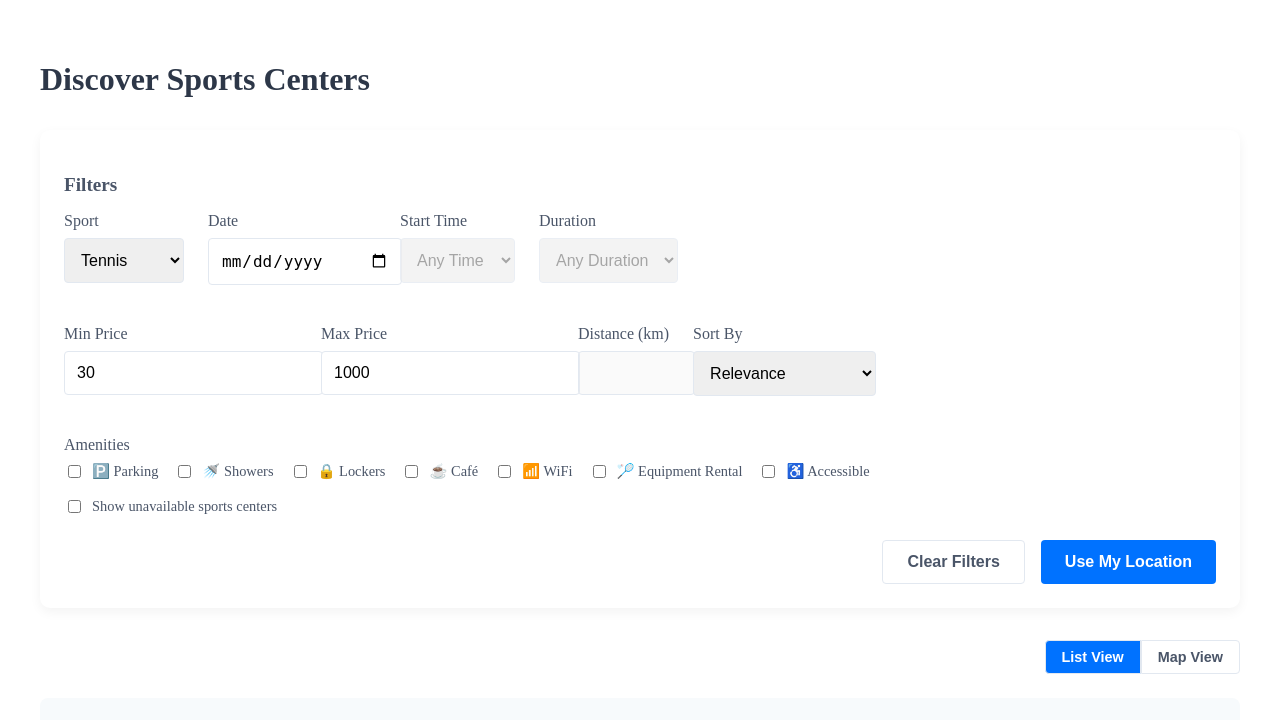
SportsCenterDiscovery Component › clears filters when clear button is clicked
# Set min price to 200
Replace the text in the number field with test id "price-min-filter" with "200": (194, 373) x1=64 y1=351 x2=323 y2=395
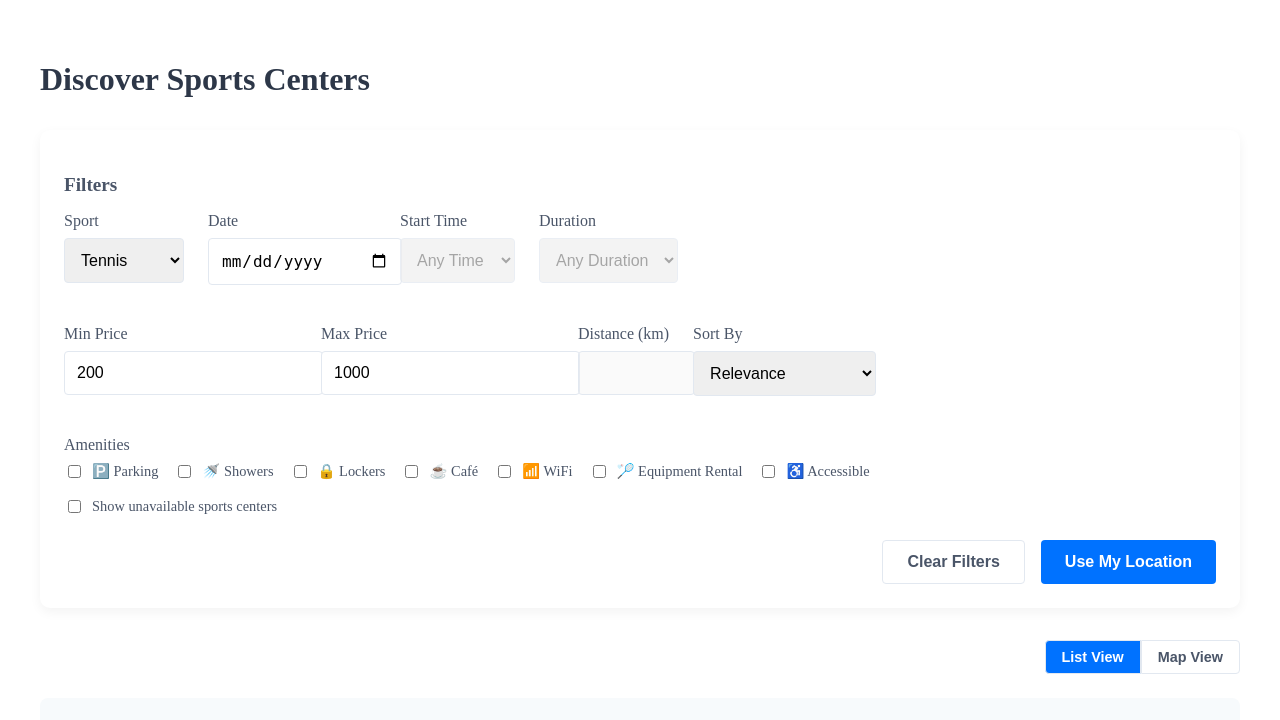
# Clear filters
Click the button with test id "clear-filters-button": click(954, 562) x1=882 y1=540 x2=1025 y2=584
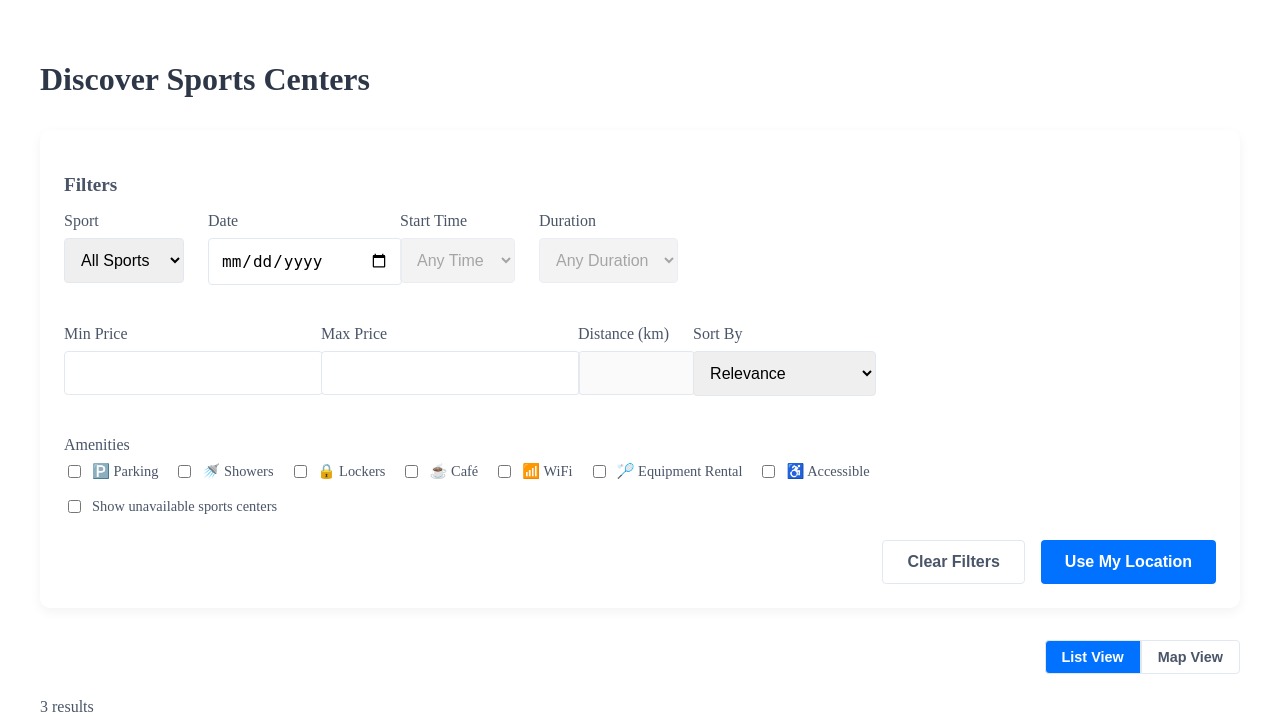
Expected: the number field with test id "price-min-filter" is not empty, x1=64 y1=351 x2=323 y2=395
